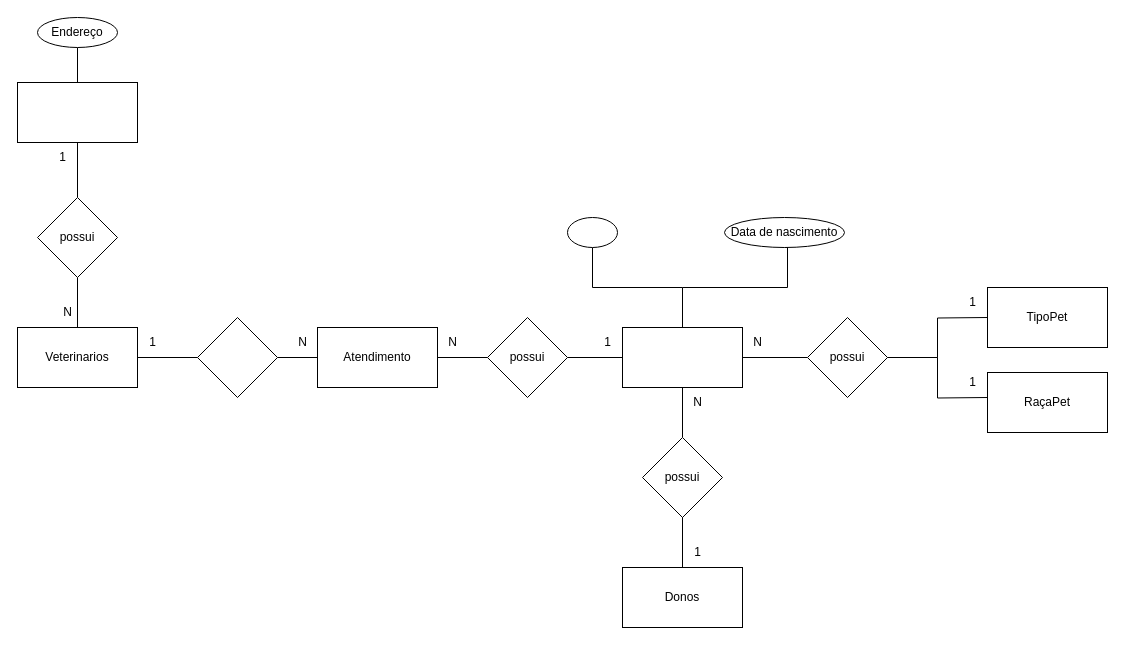
The diagram is 1125 pixels wide and 645 high, and some of its shapes have lost their labels. Each missing label, with the box of its shape:
atende: (196, 316, 278, 398)
Clínica: (16, 82, 138, 142)
Nome: (566, 216, 618, 248)
Pets: (622, 326, 742, 388)
